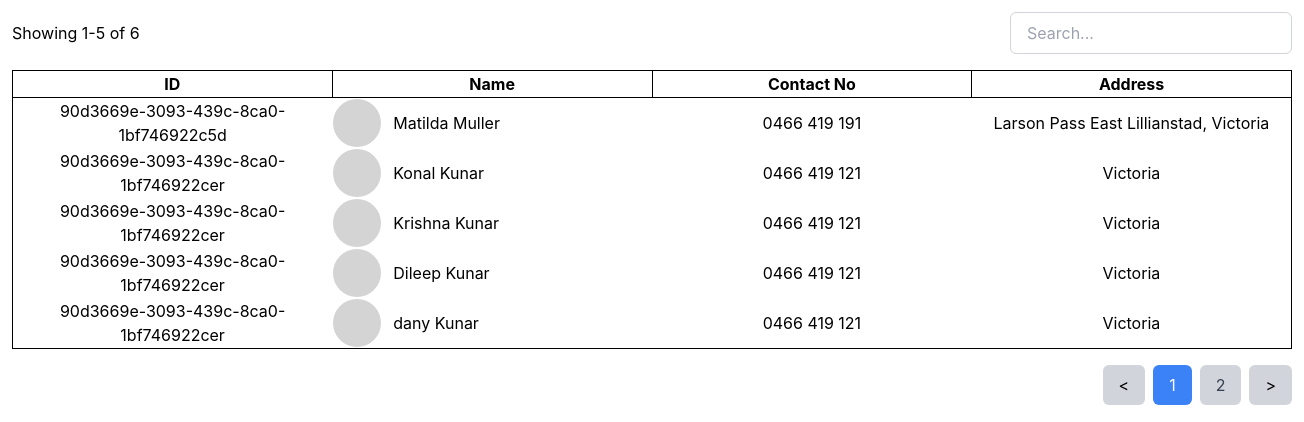
EmployeeTable Component › should filter employees based on search query
Type "Matilda" into the field with placeholder "Search..." at (1151, 33), box [1010,12,1292,54]
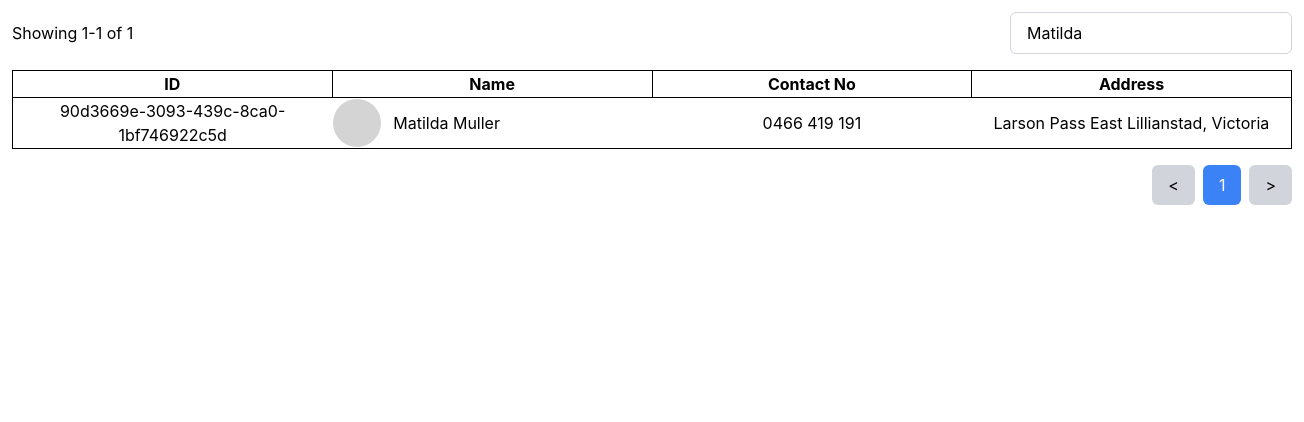
Result: the text "Konal Kunar" is not shown
